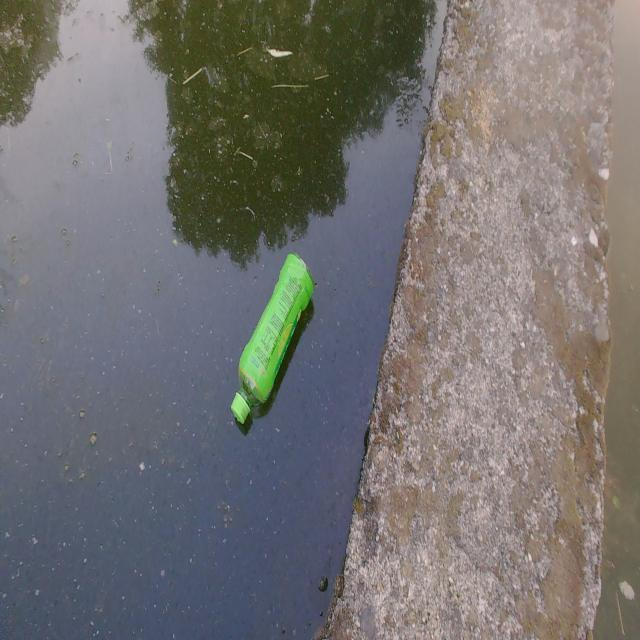garbage: (230, 251, 314, 426)
